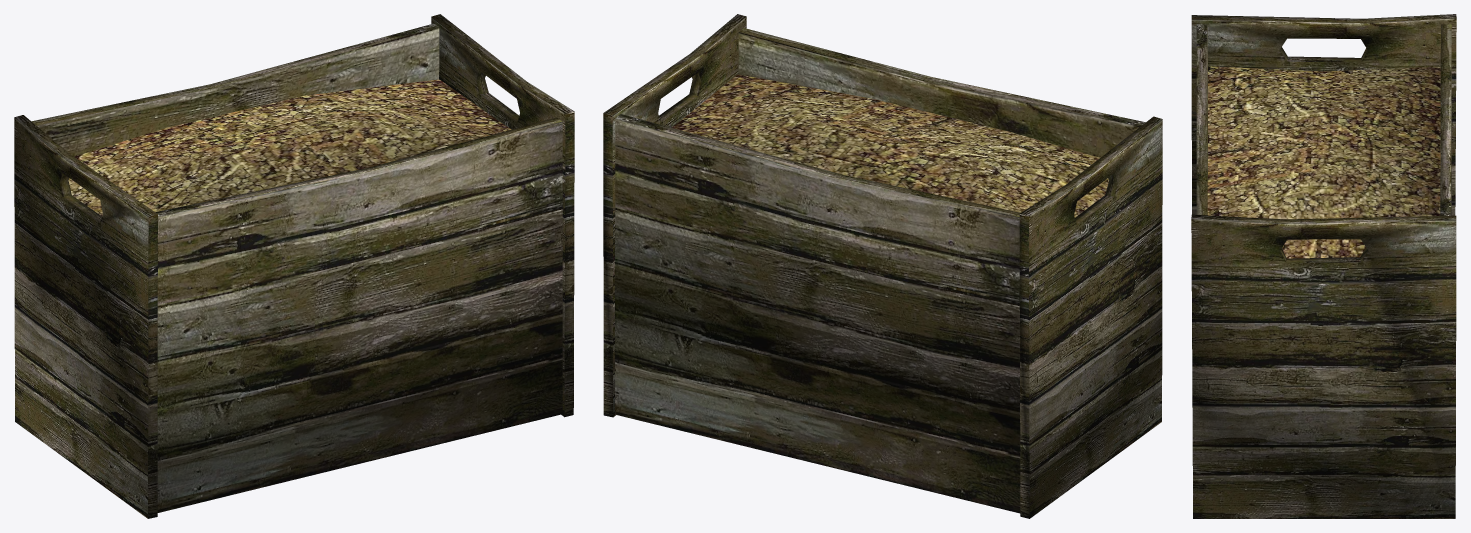
File: KM_VOB_CONTAINER_01.glb
3 views of the same model, side by side, from view 1: azimuth 30°, elevation 25°; view 2: azimuth 150°, elevation 25°; view 3: azimuth 270°, elevation 25° (orthographic).
Visible parts, largest first — view 1: Mesh; view 2: Mesh; view 3: Mesh.
Boxes of the visible parts, x1=… form: Mesh: x1=14, y1=14, x2=574, y2=518; Mesh: x1=603, y1=14, x2=1162, y2=518; Mesh: x1=1191, y1=14, x2=1456, y2=518.
Bounding box in the file's own units: 1.06 × 0.7241 × 0.5801.
2 materials, 2 textured.
